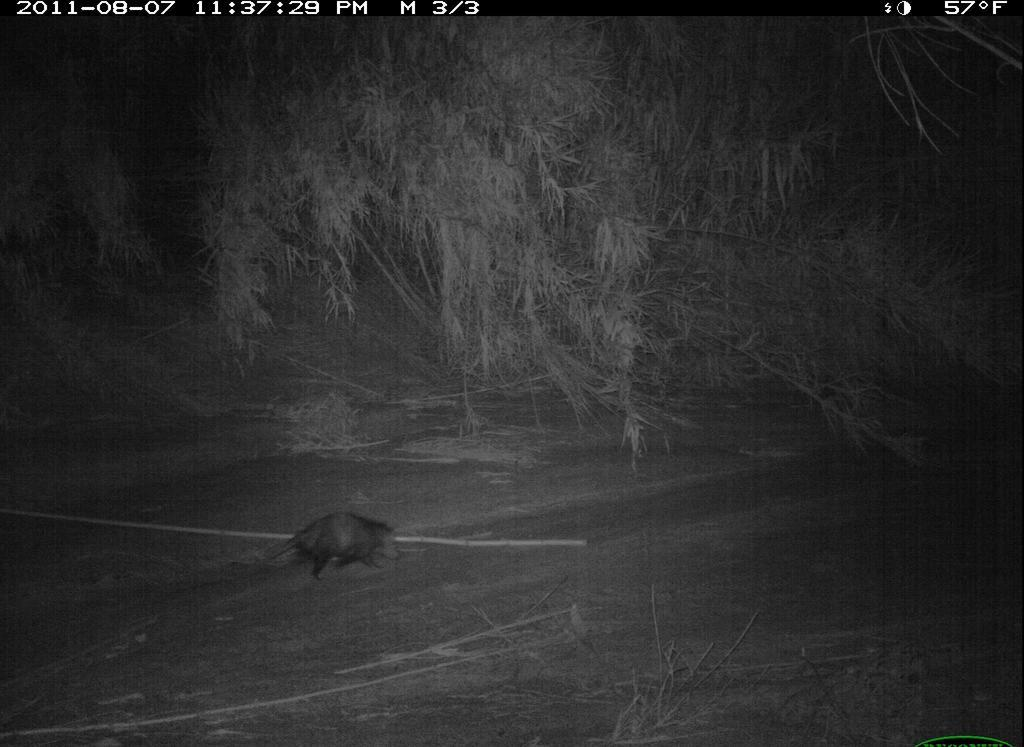opossum: (250, 510, 405, 588)
